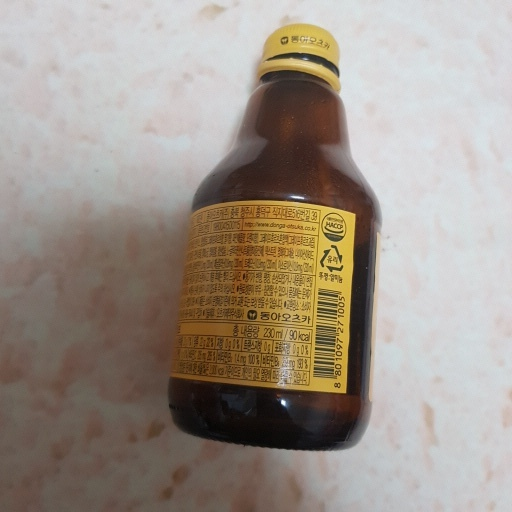Glass_3: (159, 18, 379, 454)
